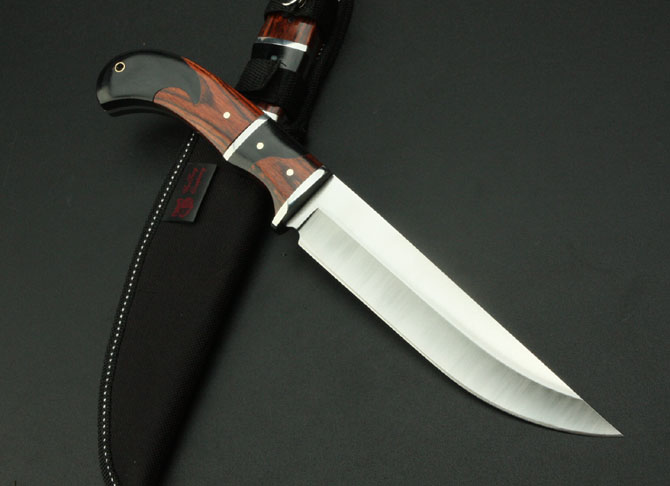knife: (85, 42, 637, 443)
